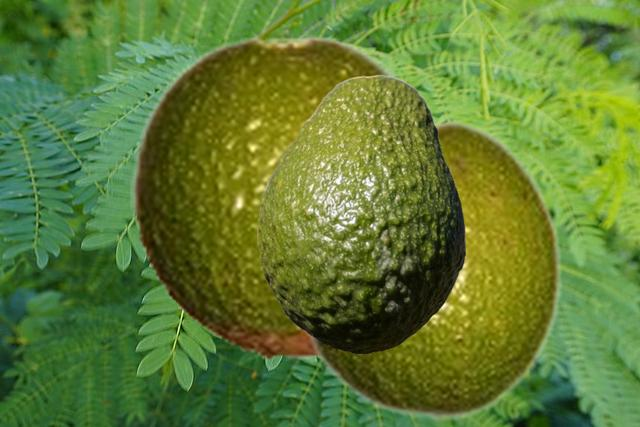avocado: (130, 34, 410, 360), (300, 117, 563, 422), (257, 74, 464, 353)
